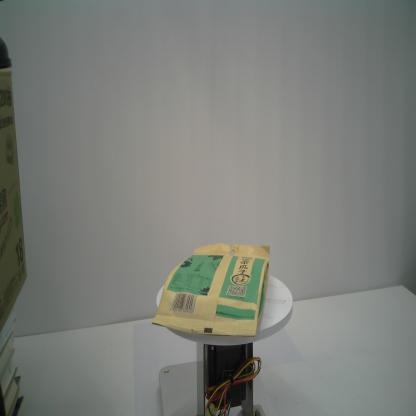Dried Food: (151, 240, 271, 339)
